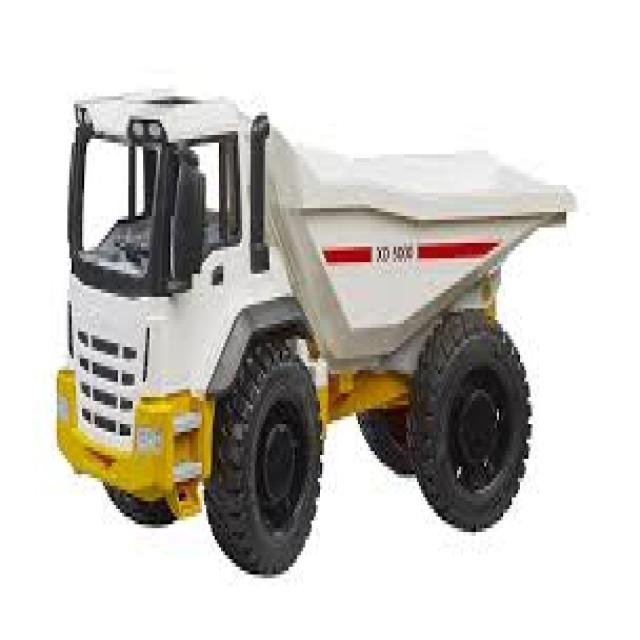dump_truck: (54, 86, 578, 578)
